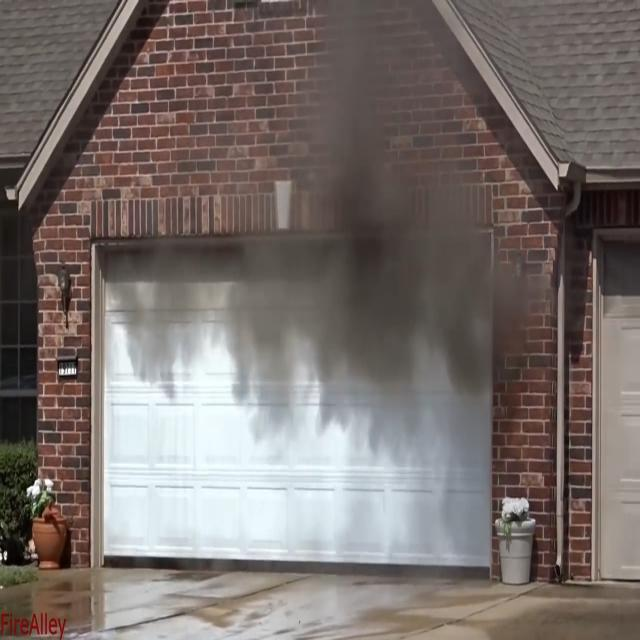Smoke: (267, 28, 511, 364)
